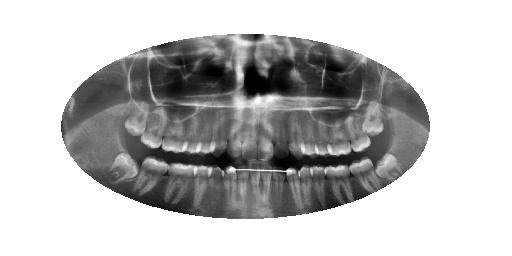Impacted Tooth: (107, 152, 139, 183), (373, 153, 403, 181)
